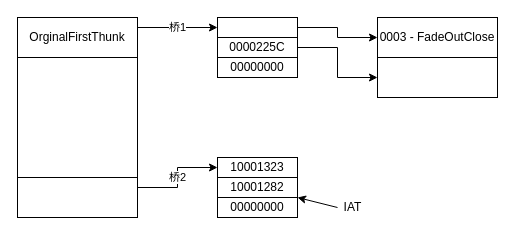
Some shapes in this 515 by 235 pixel diagram are drawn without their labels. The shapes that lost their labels are listed below. From the top down, each one's centre as x and y in pixels, then its label:
At [257,27]: "0000226A".
At [437,77]: "0002 - FadeInOpen".
At [77,117]: "…… 导入描述符".
At [77,197]: "FirstThunk".
